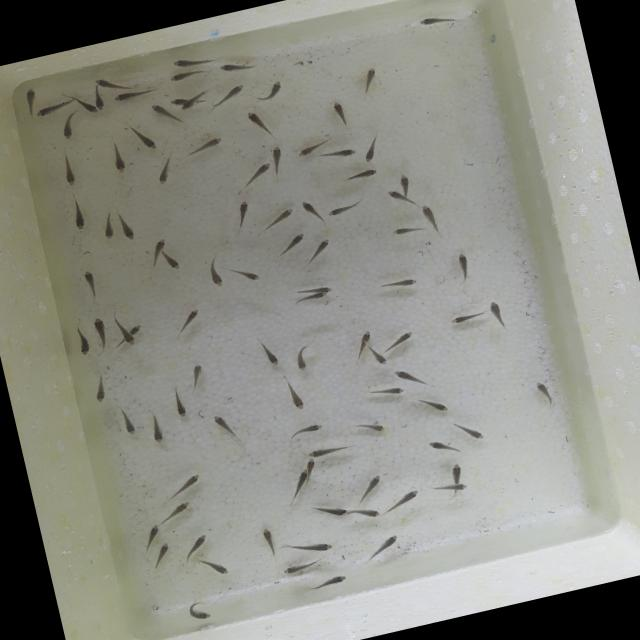fingerling: (354, 530, 406, 562), (227, 161, 276, 194), (300, 234, 340, 272), (183, 588, 219, 628), (253, 205, 300, 235), (278, 468, 314, 503), (286, 534, 334, 560), (272, 230, 313, 260), (196, 550, 234, 582), (92, 68, 135, 96), (245, 106, 278, 142), (210, 84, 252, 112), (31, 96, 80, 120), (308, 497, 349, 525), (207, 408, 240, 442), (381, 488, 424, 514), (185, 133, 228, 159), (165, 472, 207, 498), (168, 306, 208, 333), (171, 48, 216, 72), (129, 118, 159, 153), (224, 200, 256, 232), (416, 9, 459, 32), (115, 406, 144, 440), (307, 570, 353, 591), (322, 142, 362, 166), (348, 502, 387, 526), (300, 194, 326, 230), (324, 196, 366, 218), (307, 440, 353, 460), (200, 256, 227, 290), (282, 420, 327, 440), (454, 418, 486, 446), (182, 531, 216, 557), (294, 135, 332, 158), (89, 316, 113, 352), (232, 263, 268, 287), (268, 144, 292, 180), (152, 153, 178, 186), (106, 138, 129, 175), (147, 542, 175, 572), (428, 434, 460, 460), (330, 96, 356, 128), (418, 394, 454, 417), (168, 64, 205, 86), (145, 235, 174, 263), (278, 558, 323, 576), (356, 134, 383, 164), (350, 328, 376, 359), (378, 274, 422, 292), (427, 477, 467, 496), (212, 56, 250, 76), (452, 246, 473, 282), (161, 500, 195, 522), (68, 196, 90, 230), (58, 154, 80, 188), (484, 296, 508, 327), (253, 77, 284, 101), (290, 290, 330, 308), (422, 200, 442, 236), (359, 65, 383, 95), (112, 316, 134, 348), (95, 209, 117, 241), (374, 382, 409, 402), (115, 86, 156, 103), (116, 212, 136, 246), (359, 474, 385, 500), (182, 360, 210, 384), (284, 382, 306, 412), (298, 280, 334, 298), (74, 322, 93, 356), (56, 114, 79, 142), (19, 84, 42, 112), (181, 89, 210, 111), (396, 170, 417, 200), (136, 524, 164, 546), (90, 376, 112, 404), (79, 268, 100, 297), (390, 366, 420, 386), (387, 329, 417, 349), (446, 308, 479, 326), (260, 343, 282, 370), (534, 378, 556, 404), (150, 102, 172, 128), (292, 345, 312, 373), (170, 392, 190, 420), (347, 168, 381, 184), (260, 526, 278, 556), (358, 418, 388, 436), (148, 418, 169, 443), (367, 344, 387, 368), (381, 186, 405, 206), (163, 252, 185, 273), (74, 99, 98, 117), (392, 224, 422, 238), (447, 462, 466, 482), (92, 84, 105, 111), (304, 457, 322, 474), (126, 322, 144, 336), (168, 96, 188, 108)
